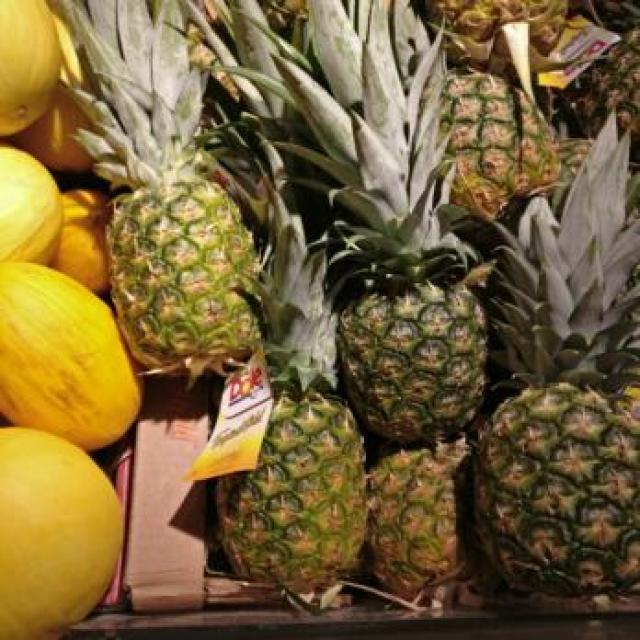pineapple: (488, 382, 640, 592), (109, 178, 260, 376), (218, 394, 366, 592), (339, 284, 485, 443), (445, 72, 566, 216), (366, 439, 466, 598), (554, 26, 640, 162), (434, 0, 567, 54)
